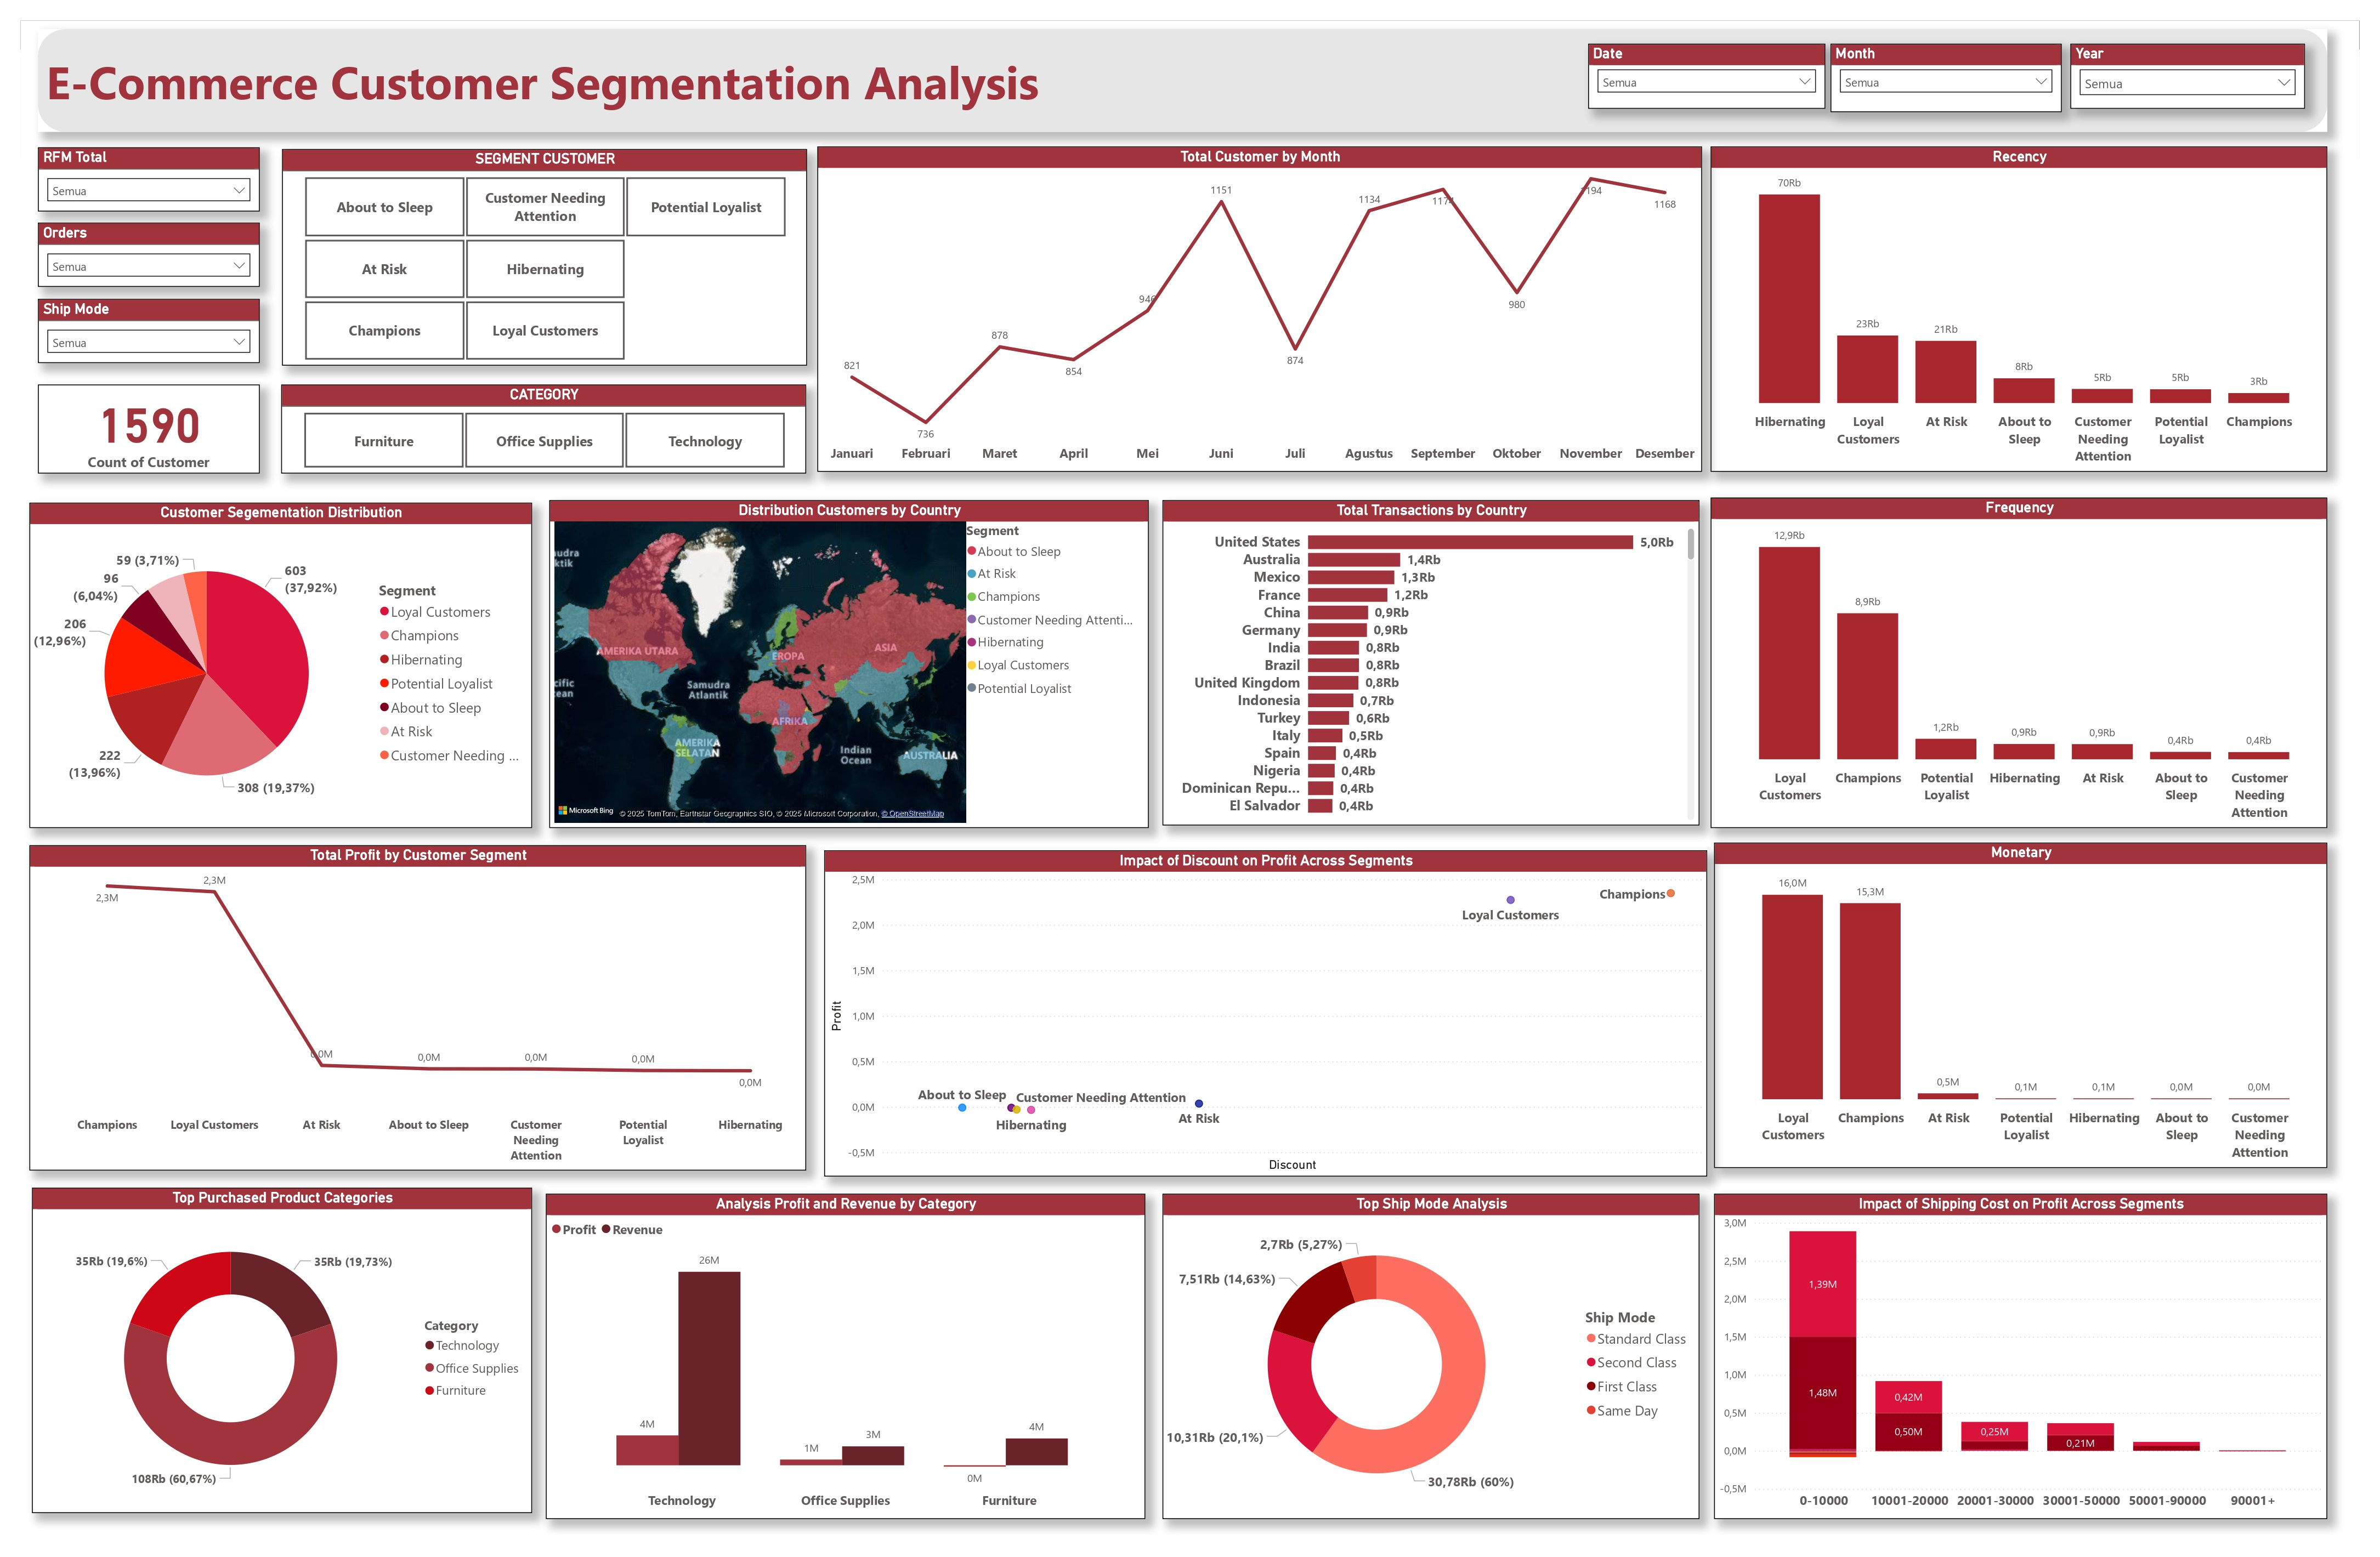

This screenshot's page, from the dashboard's own definition file:
{"tool":"powerbi","page":{"name":"Customer segmentation","canvas":[2730,1770],"ordinal":0},"visuals":[{"type":"columnChart","title":"Frequency","fields":{"Y":["RFM table.frequency"],"Category":["RFM table.Segment Customer"]},"box":[1973.3,556.7,720,386.7],"z":0},{"type":"columnChart","title":"Recency","fields":{"Y":["RFM table.recency"],"Category":["RFM table.Segment Customer"]},"box":[1973.3,146.7,720,380],"z":1000},{"type":"columnChart","title":"Monetary","fields":{"Y":["RFM table.monetary"],"Category":["RFM table.Segment Customer"]},"box":[1976.7,960,716.7,380],"z":2000},{"type":"card","fields":{"Values":["cleaned_E-commerce_website_sales_analysis.Customer ID"]},"box":[20.4,424.5,258.8,104.4],"z":3000},{"type":"shape","box":[20,10,2673.3,120],"z":4000},{"type":"slicer","title":"Orders","fields":{"Values":["cleaned_E-commerce_website_sales_analysis.Orders"]},"box":[20.4,236.1,258.8,74.9],"z":5000},{"type":"slicer","title":"RFM Total","fields":{"Values":["RFM table.RFM total"]},"box":[20.4,147.6,258.8,75],"z":6000},{"type":"slicer","title":"Ship Mode","fields":{"Values":["cleaned_E-commerce_website_sales_analysis.Ship Mode"]},"box":[20.4,324.6,258.8,74.9],"z":7000},{"type":"slicer","title":"Date","fields":{"Values":["cleaned_E-commerce_website_sales_analysis.Order Date.Variasi.Hierarki Tanggal.Hari"]},"box":[1830,26.7,276.7,76.7],"z":8000},{"type":"slicer","title":"Month","fields":{"Values":["cleaned_E-commerce_website_sales_analysis.Order Date.Variasi.Hierarki Tanggal.Bulan"]},"box":[2113.3,26.7,270,80],"z":9000},{"type":"slicer","title":"Year","fields":{"Values":["cleaned_E-commerce_website_sales_analysis.Order Date.Variasi.Hierarki Tanggal.Tahun"]},"box":[2393.3,26.7,273.3,76.7],"z":10000},{"type":"slicer","title":"SEGMENT CUSTOMER","fields":{"Values":["RFM table.Segment Customer"]},"box":[305,150,612.5,252.5],"z":11000},{"type":"slicer","title":"CATEGORY","fields":{"Values":["cleaned_E-commerce_website_sales_analysis.Category"]},"box":[304.2,424.5,613,104.4],"z":12000},{"type":"barChart","title":"Total Transactions by Country","fields":{"Category":["cleaned_E-commerce_website_sales_analysis.Country"],"Y":["cleaned_E-commerce_website_sales_analysis.Order ID"]},"box":[1333.3,560,626.7,380],"z":13000},{"type":"lineChart","title":"Total Profit by Customer Segment","fields":{"Y":["cleaned_E-commerce_website_sales_analysis.Profit"],"Category":["RFM table.Segment Customer"]},"box":[10,963.3,906.7,380],"z":14000},{"type":"lineChart","title":"Total Customer by Month","fields":{"Category":["cleaned_E-commerce_website_sales_analysis.Order Date.Variasi.Hierarki Tanggal.Bulan"],"Y":["cleaned_E-commerce_website_sales_analysis.Customer ID"]},"box":[930,146.7,1033.3,380],"z":15000},{"type":"donutChart","title":"Top Ship Mode Analysis","fields":{"Category":["cleaned_E-commerce_website_sales_analysis.Ship Mode"],"Y":["cleaned_E-commerce_website_sales_analysis.Customer ID"]},"box":[1333.3,1370,626.7,380],"z":16000},{"type":"pieChart","title":"Customer Segementation Distribution","fields":{"Y":["cleaned_E-commerce_website_sales_analysis.Customer ID"],"Category":["RFM table.Segment Customer"]},"box":[10,563.3,586.7,380],"z":17000},{"type":"filledMap","title":"Distribution Customers by Country","fields":{"Category":["cleaned_E-commerce_website_sales_analysis.Country"],"Series":["RFM_Table.Segment"]},"box":[616.7,560,700,383.3],"z":18000},{"type":"columnChart","title":"Impact of Shipping Cost on Profit Across Segments","fields":{"Category":["cleaned_E-commerce_website_sales_analysis.ShippingCostBin"],"Y":["cleaned_E-commerce_website_sales_analysis.Profit"],"Series":["RFM table.Segment Customer"]},"box":[1976.7,1370,716.7,380],"z":19000},{"type":"scatterChart","title":"Impact of Discount on Profit Across Segments","fields":{"X":["cleaned_E-commerce_website_sales_analysis.DiscountPct"],"Series":["RFM table.Segment Customer"],"Y":["cleaned_E-commerce_website_sales_analysis.Profit"]},"box":[937.6,969,1031.8,381.3],"z":20000},{"type":"donutChart","title":"Top Purchased Product Categories","fields":{"Category":["cleaned_E-commerce_website_sales_analysis.Category"],"Y":["cleaned_E-commerce_website_sales_analysis.Quantity"]},"box":[13.3,1363.3,583.3,380],"z":21000},{"type":"clusteredColumnChart","title":"Analysis Profit and Revenue by Category","fields":{"Category":["cleaned_E-commerce_website_sales_analysis.Category"],"Y":["cleaned_E-commerce_website_sales_analysis.Profit","cleaned_E-commerce_website_sales_analysis.Sales"]},"box":[613.3,1370,700,380],"z":23001}]}

Visuals, with their boxes on the page's 2730x1770 design canvas (x1, y1, x2, y2). These are canvas units, not pixel positions in the 2380x1557 screenshot, which may show the page scaled, cropped or inside an application window:
"Frequency" columnChart: bbox(1973, 557, 2693, 943)
"Recency" columnChart: bbox(1973, 147, 2693, 527)
"Monetary" columnChart: bbox(1977, 960, 2693, 1340)
card - cleaned_E-commerce_website_sales_analysis.Customer ID: bbox(20, 424, 279, 529)
shape: bbox(20, 10, 2693, 130)
"Orders" slicer: bbox(20, 236, 279, 311)
"RFM Total" slicer: bbox(20, 148, 279, 223)
"Ship Mode" slicer: bbox(20, 325, 279, 400)
"Date" slicer: bbox(1830, 27, 2107, 103)
"Month" slicer: bbox(2113, 27, 2383, 107)
"Year" slicer: bbox(2393, 27, 2667, 103)
"SEGMENT CUSTOMER" slicer: bbox(305, 150, 918, 402)
"CATEGORY" slicer: bbox(304, 424, 917, 529)
"Total Transactions by Country" barChart: bbox(1333, 560, 1960, 940)
"Total Profit by Customer Segment" lineChart: bbox(10, 963, 917, 1343)
"Total Customer by Month" lineChart: bbox(930, 147, 1963, 527)
"Top Ship Mode Analysis" donutChart: bbox(1333, 1370, 1960, 1750)
"Customer Segementation Distribution" pieChart: bbox(10, 563, 597, 943)
"Distribution Customers by Country" filledMap: bbox(617, 560, 1317, 943)
"Impact of Shipping Cost on Profit Across Segments" columnChart: bbox(1977, 1370, 2693, 1750)
"Impact of Discount on Profit Across Segments" scatterChart: bbox(938, 969, 1969, 1350)
"Top Purchased Product Categories" donutChart: bbox(13, 1363, 597, 1743)
"Analysis Profit and Revenue by Category" clusteredColumnChart: bbox(613, 1370, 1313, 1750)
